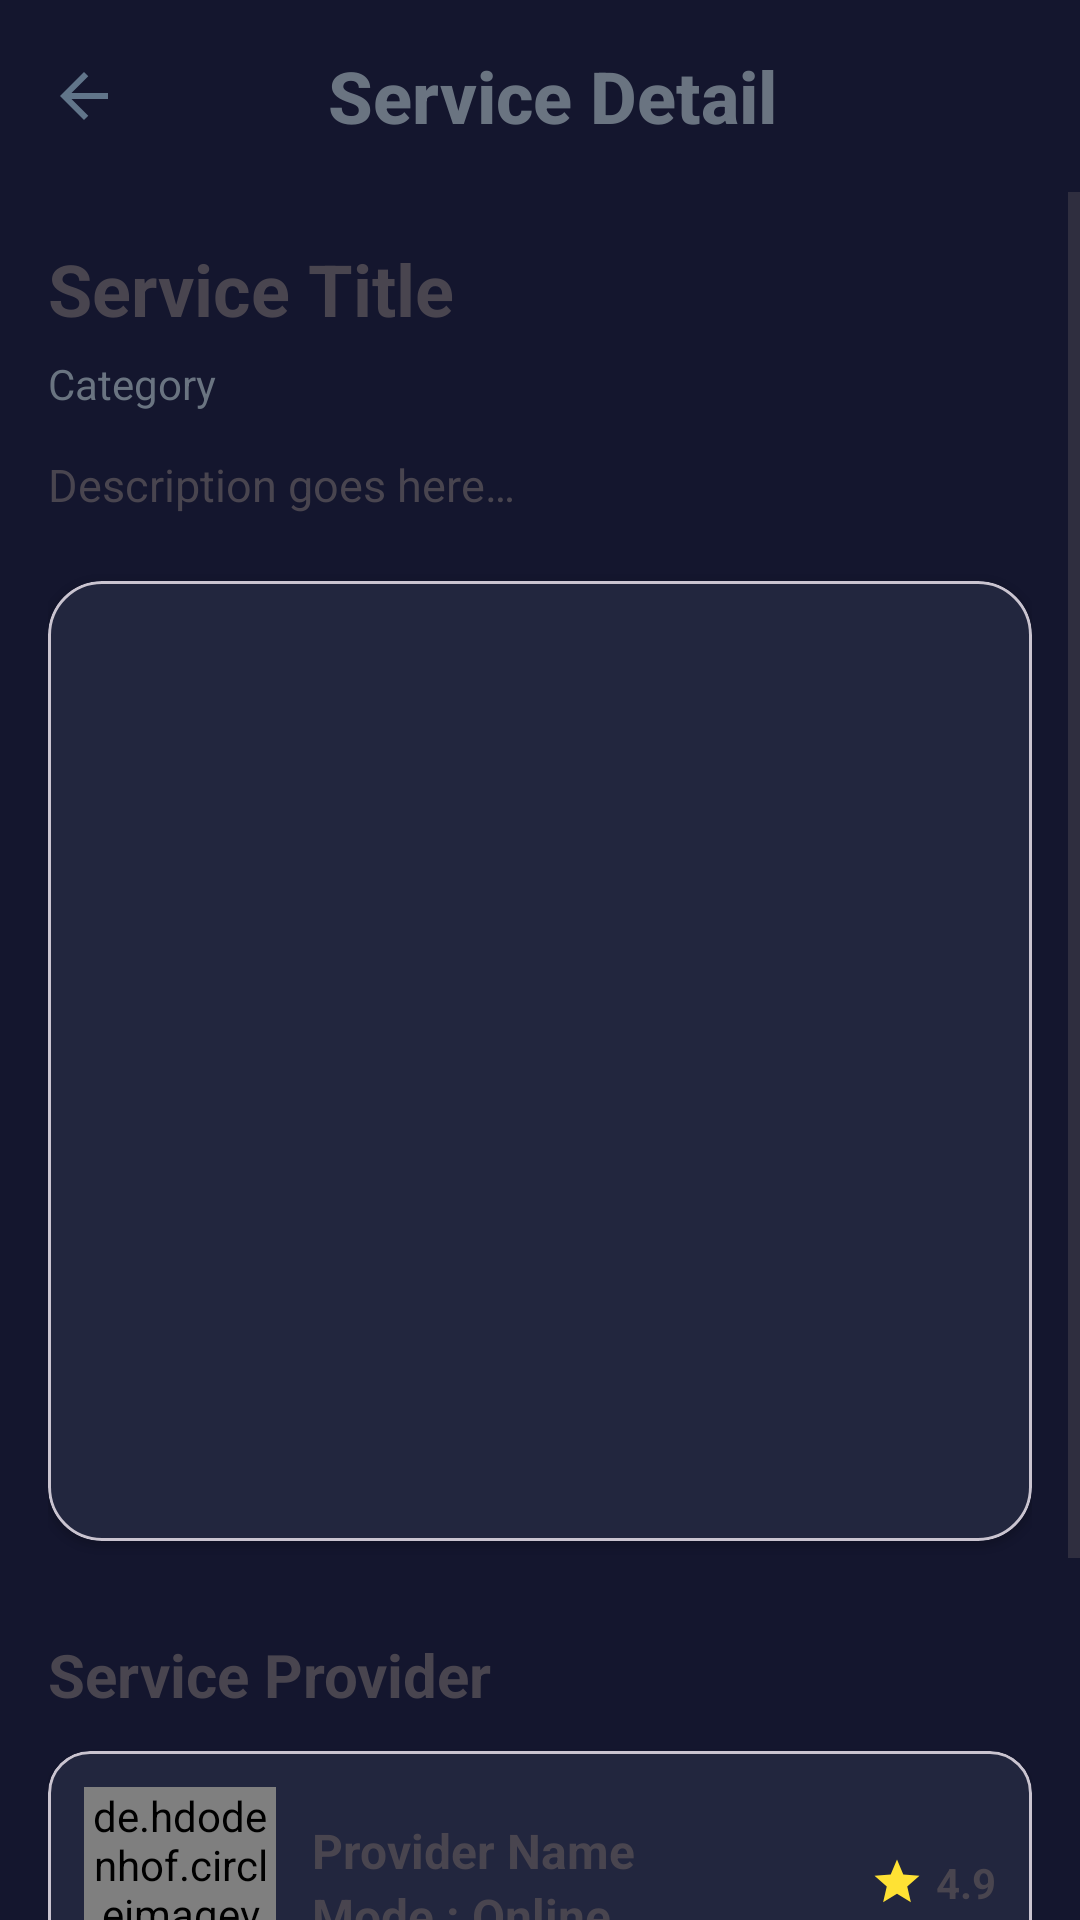

Locate icon controls on the screen. Image size 1080px×1920px, boxes as [x1,y1,x2,y2].
star: [875,1860,919,1902]
